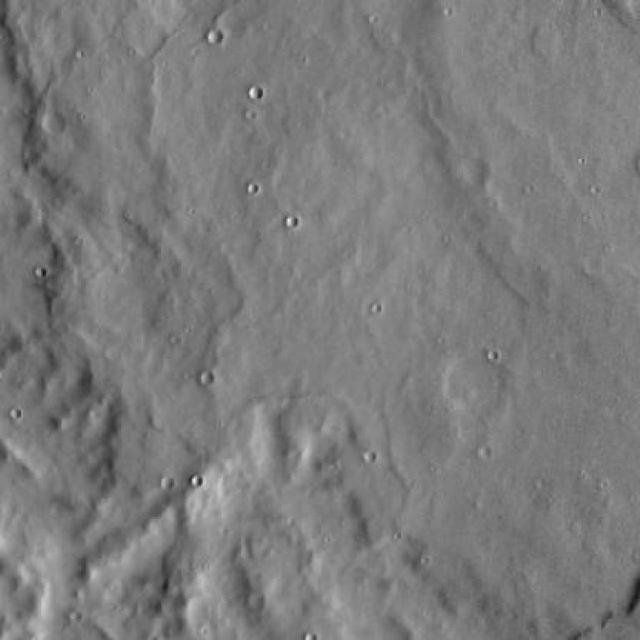crater: (439, 360, 504, 424), (36, 109, 60, 133), (629, 154, 640, 177)
